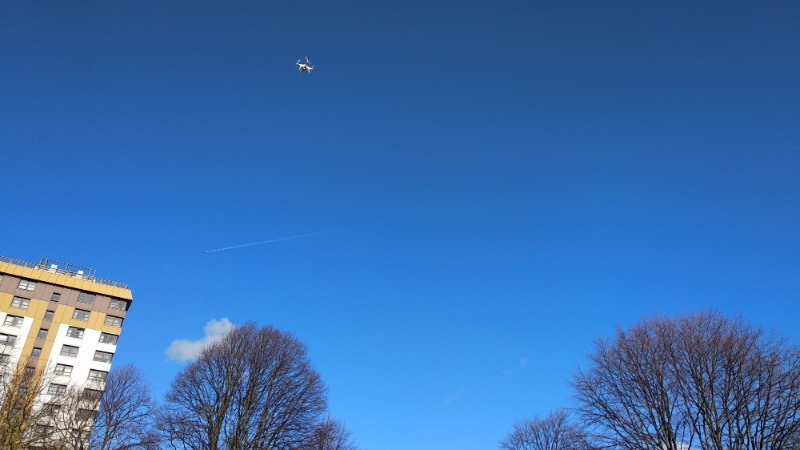drone: (294, 56, 316, 77)
